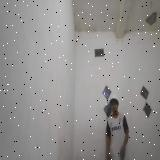Helmet: (110, 92, 120, 104)
